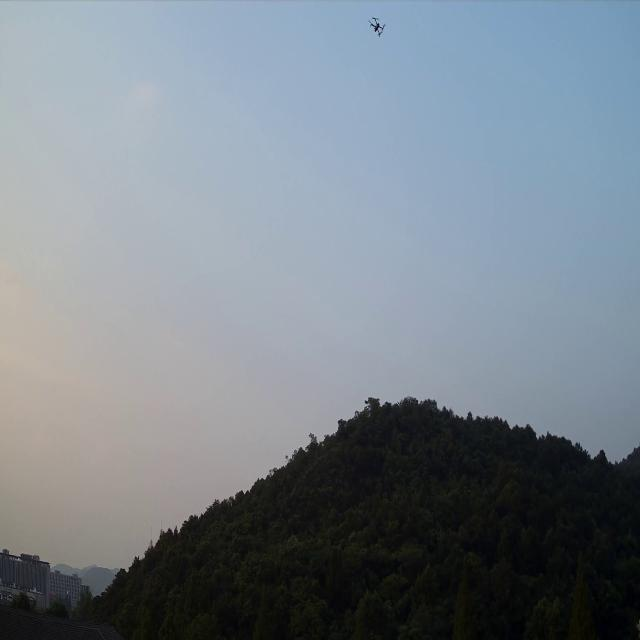UAV: (368, 15, 385, 38)
